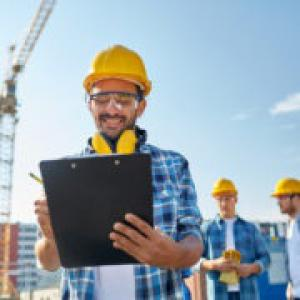yellow: (86, 43, 153, 134), (211, 178, 243, 218), (275, 176, 300, 216)
